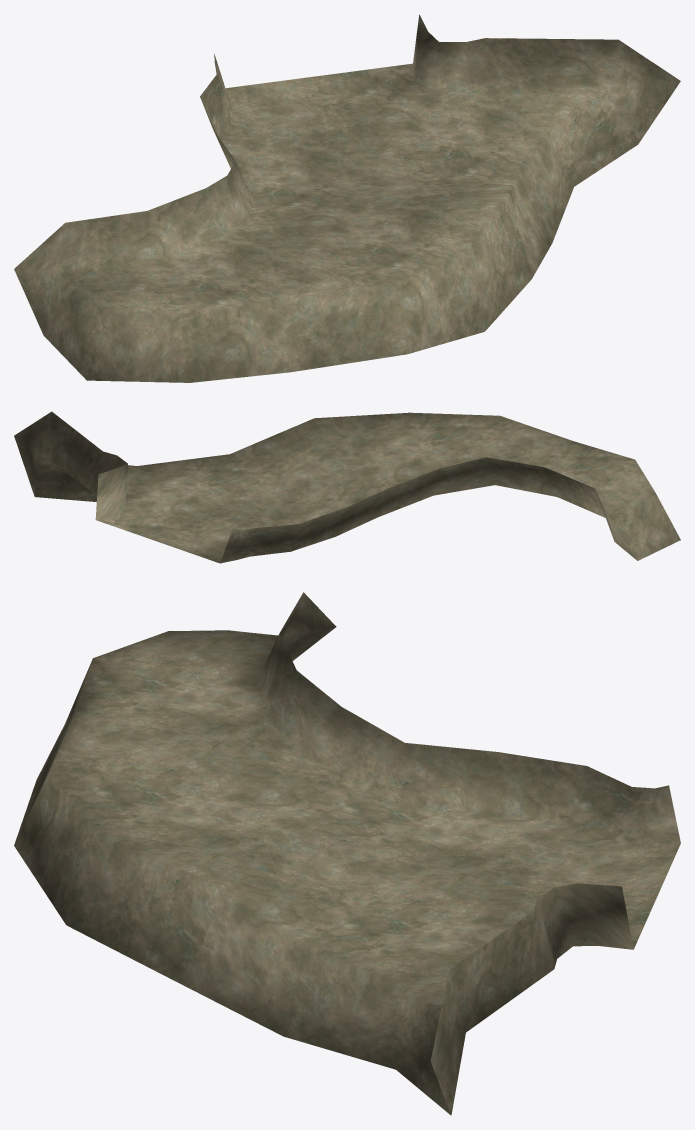
Rendered from EKH_THRONE_PS_TH_OBJECT02.fbx.
3 views of the same model, one above another, from view 1: azimuth 30°, elevation 25°; view 2: azimuth 150°, elevation 25°; view 3: azimuth 270°, elevation 25° (orthographic). The views are drawn at different scales.
Parts seen in each view (by area): view 1: EKH_THRONE_PS_TH_OBJECT02; view 2: EKH_THRONE_PS_TH_OBJECT02; view 3: EKH_THRONE_PS_TH_OBJECT02.
Part boxes in pixels (box(x1,y1,x2,y2)): EKH_THRONE_PS_TH_OBJECT02: box(14, 14, 680, 382); EKH_THRONE_PS_TH_OBJECT02: box(14, 411, 680, 563); EKH_THRONE_PS_TH_OBJECT02: box(14, 592, 680, 1115).
Bounding box in the file's own units: 80963 × 14619 × 54054.
1 material, 1 textured.
